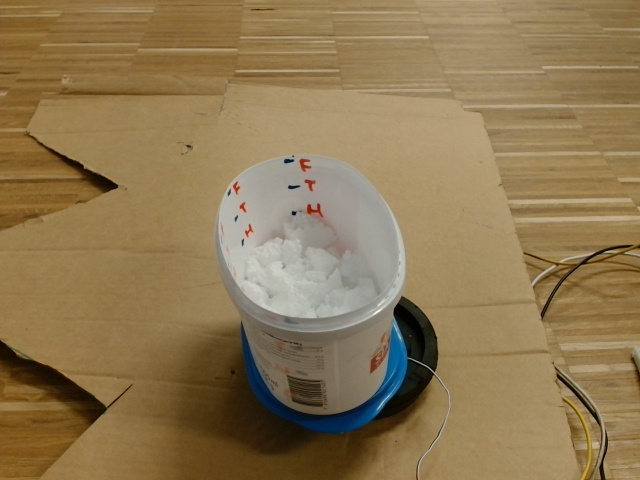Big_quarter: (212, 151, 408, 336)
